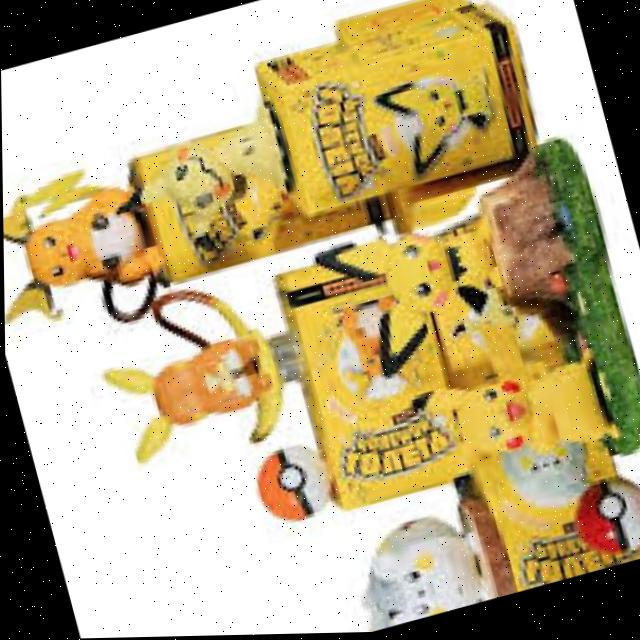pichu: (297, 192, 513, 379)
